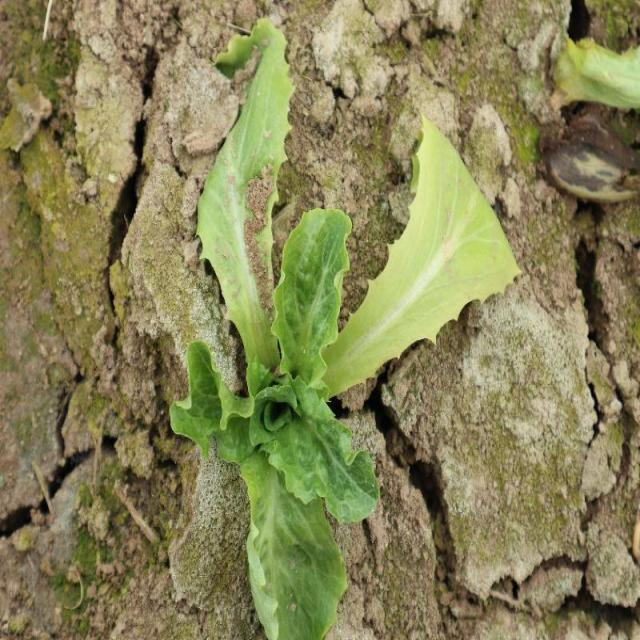crop: (170, 201, 381, 640)
